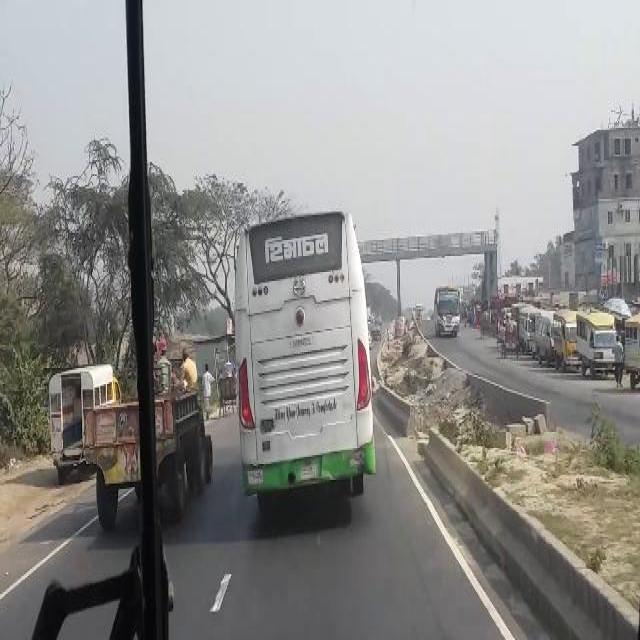13: (216, 362, 238, 417), (502, 321, 518, 355), (480, 309, 490, 338), (495, 320, 505, 348)
5: (371, 324, 381, 337), (374, 312, 381, 321)
7: (47, 362, 119, 477), (574, 311, 620, 375), (553, 309, 579, 370), (528, 311, 552, 365), (623, 316, 639, 388)
Truck: (234, 210, 376, 505), (434, 285, 460, 337)
